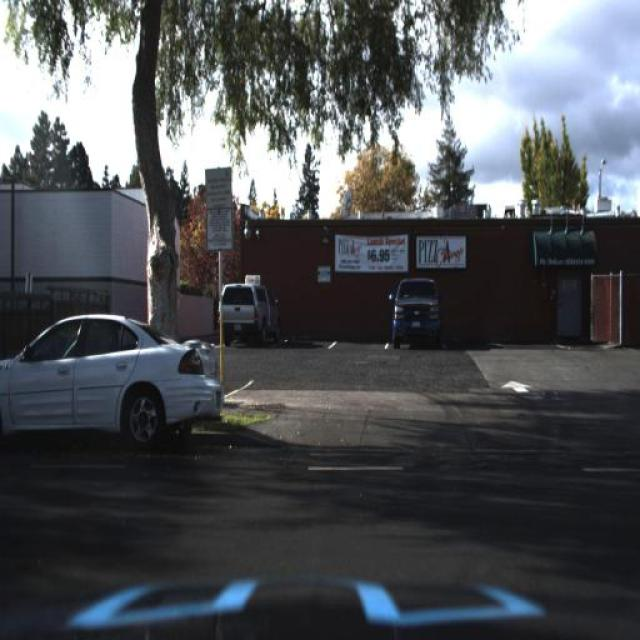car: (0, 299, 226, 449), (383, 270, 451, 358), (208, 274, 288, 348)
